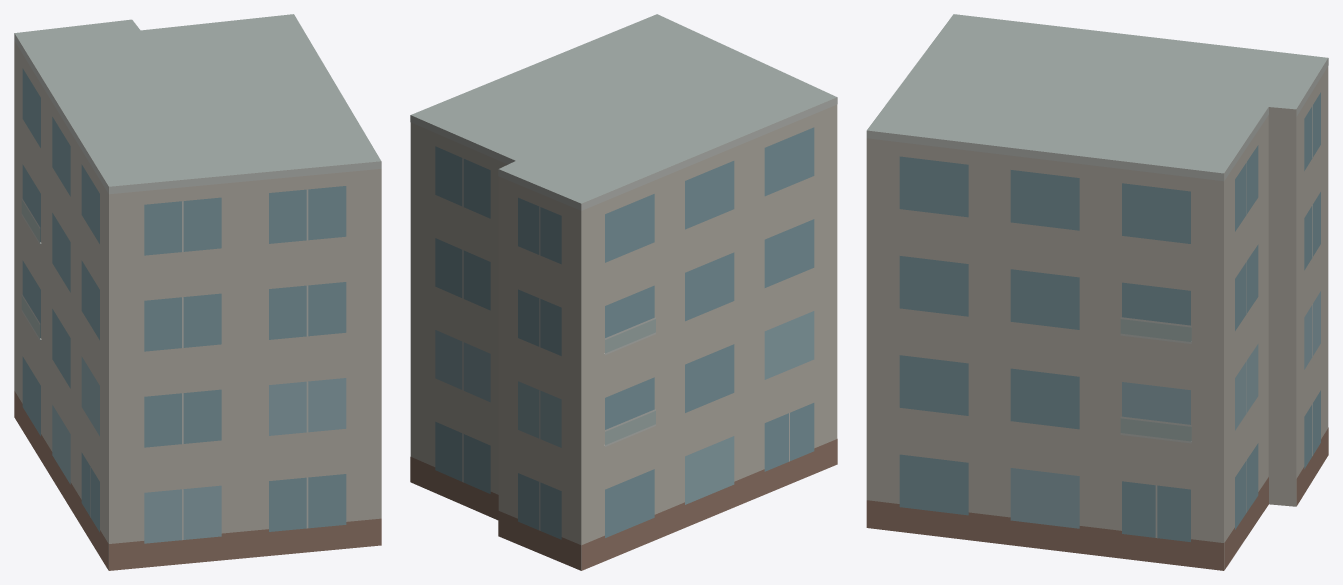
File: survey-upis-32888844.glb
The picture shows the model from 3 angles, left to right: view 1: azimuth 30°, elevation 25°; view 2: azimuth 150°, elevation 25°; view 3: azimuth 270°, elevation 25°; orthographic projection. The views are drawn at different scales.
Visible parts, largest first — view 1: survey-upis-32888844.tmp; view 2: survey-upis-32888844.tmp; view 3: survey-upis-32888844.tmp.
Part boxes in pixels (box(x1,y1,x2,y2)): survey-upis-32888844.tmp: box(14, 14, 381, 570); survey-upis-32888844.tmp: box(410, 14, 837, 570); survey-upis-32888844.tmp: box(866, 14, 1328, 570).
Bounding box in the file's own units: 10.72 × 12.45 × 13.12.
